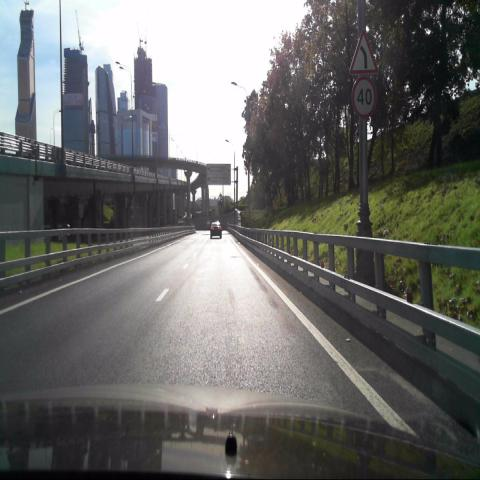1_11_1: (349, 27, 379, 76)
